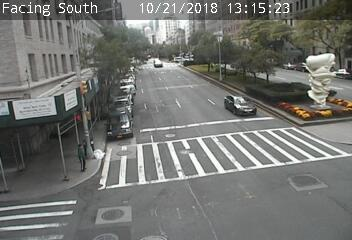car: (224, 96, 252, 113), (153, 59, 161, 65)
